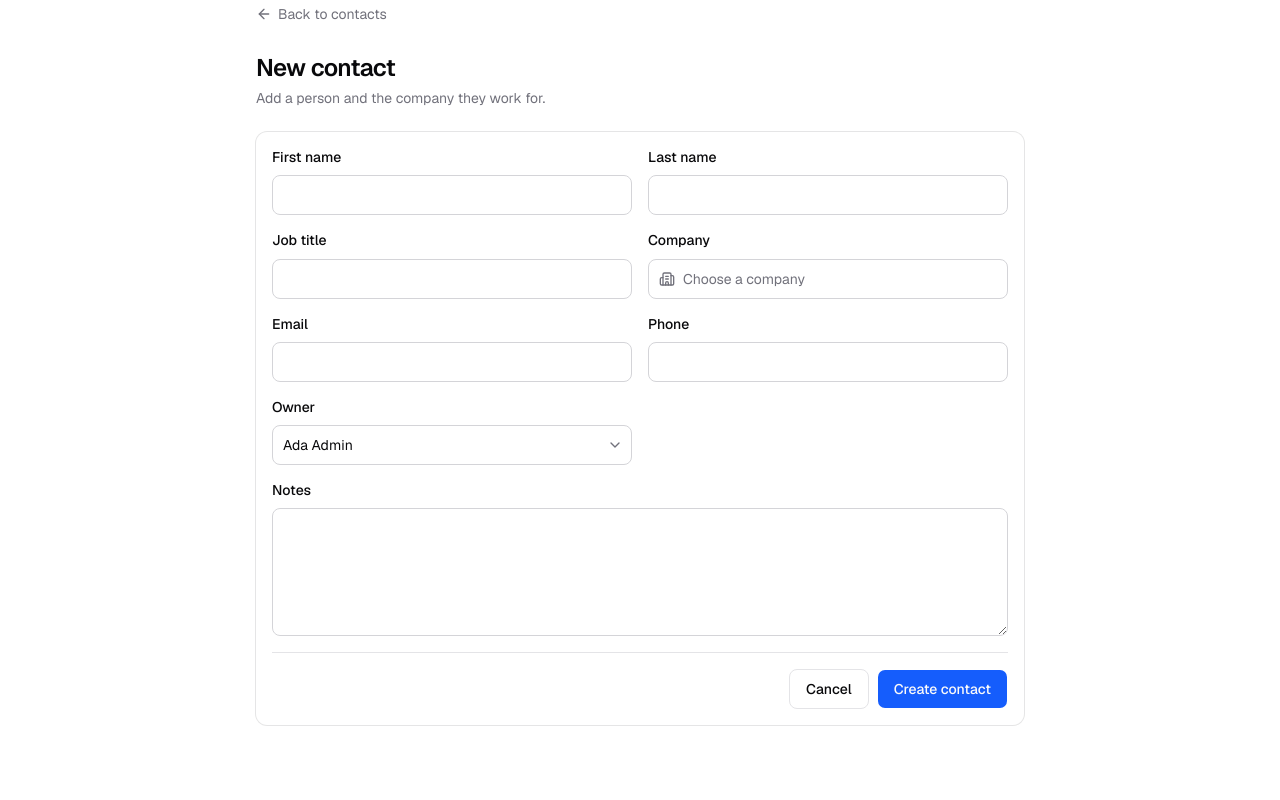
Test case: NewContactPage › puts the server's validation details on the matching fields, the company included
Type "Marcus" into the field labelled "First name".
click(452, 195); type("Marcus")  # box [272,175,632,215]
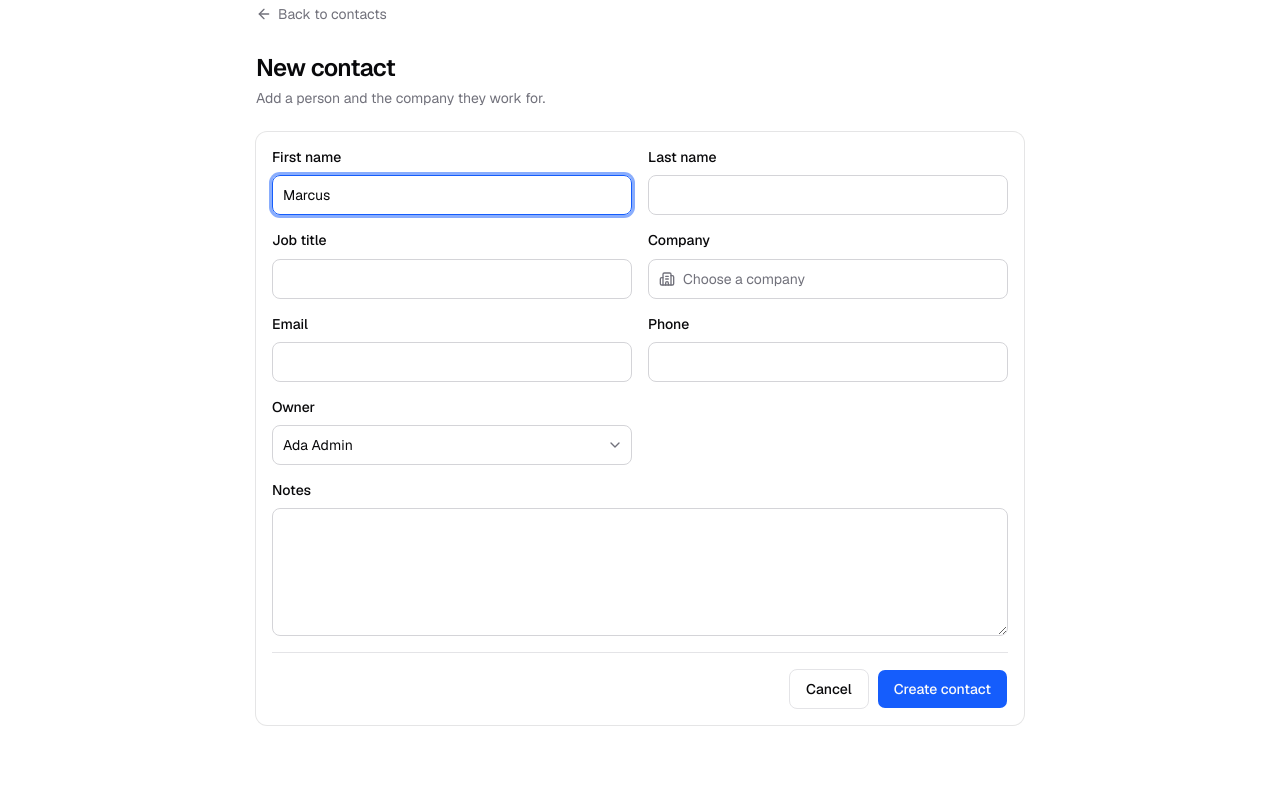
Type "Chen" into the field labelled "Last name".
click(828, 195); type("Chen")  # box [648,175,1008,215]
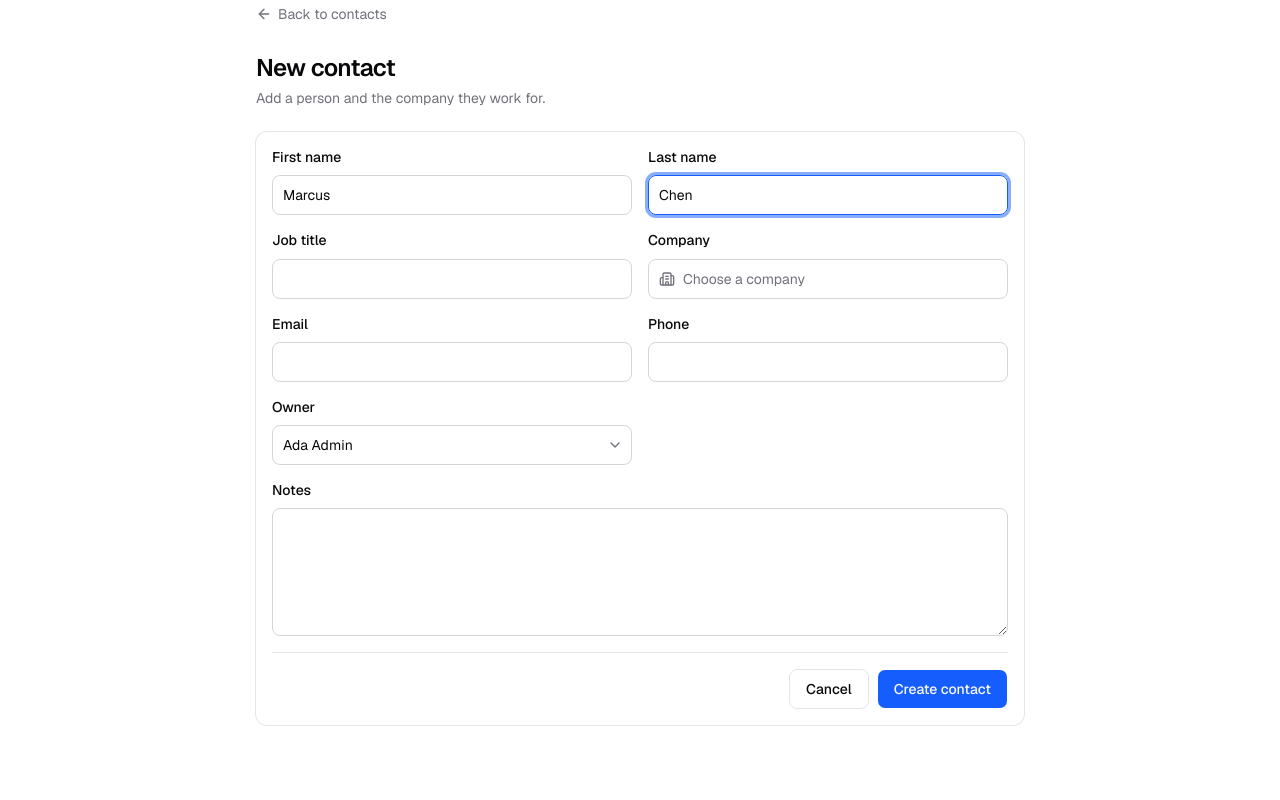
Click the button with aria-label "Company: none".
click(744, 278)  # box [648,258,1008,298]
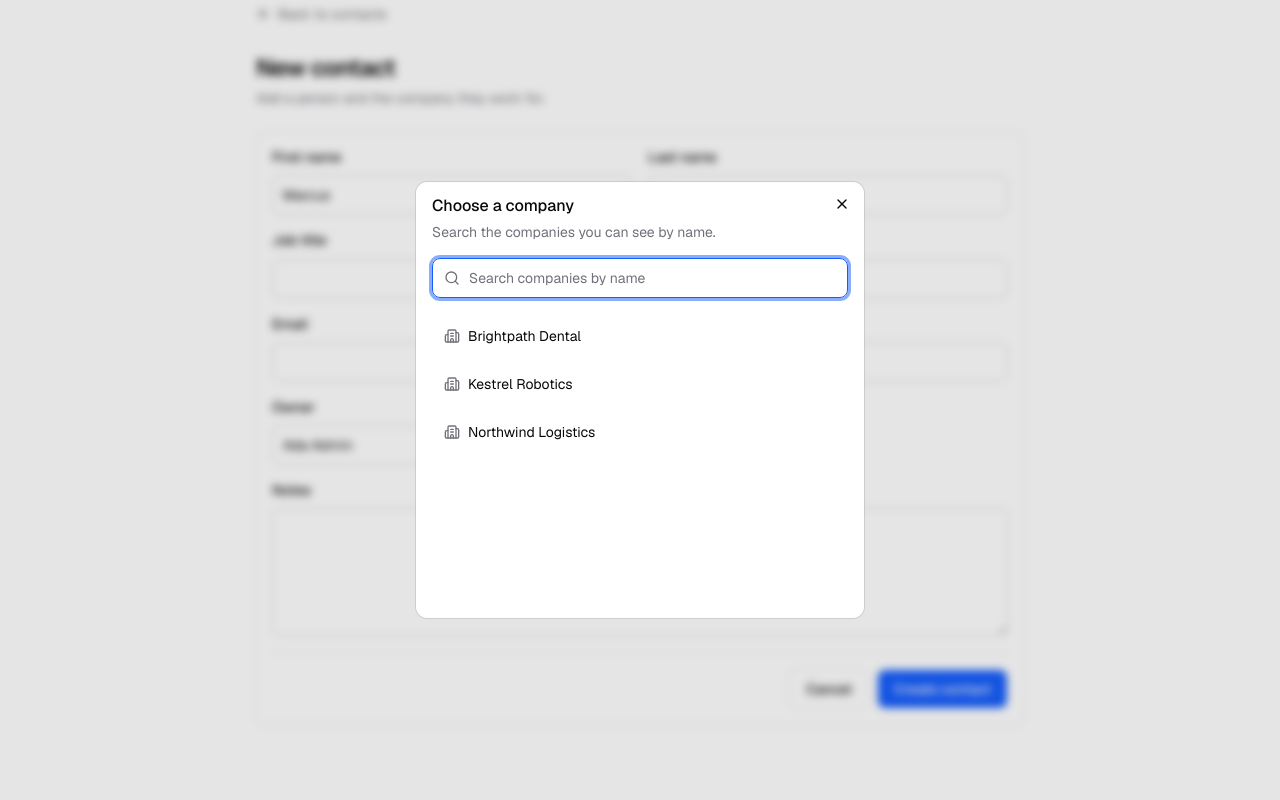
Click the button "Northwind Logistics".
click(532, 432)  # box [432,410,848,454]
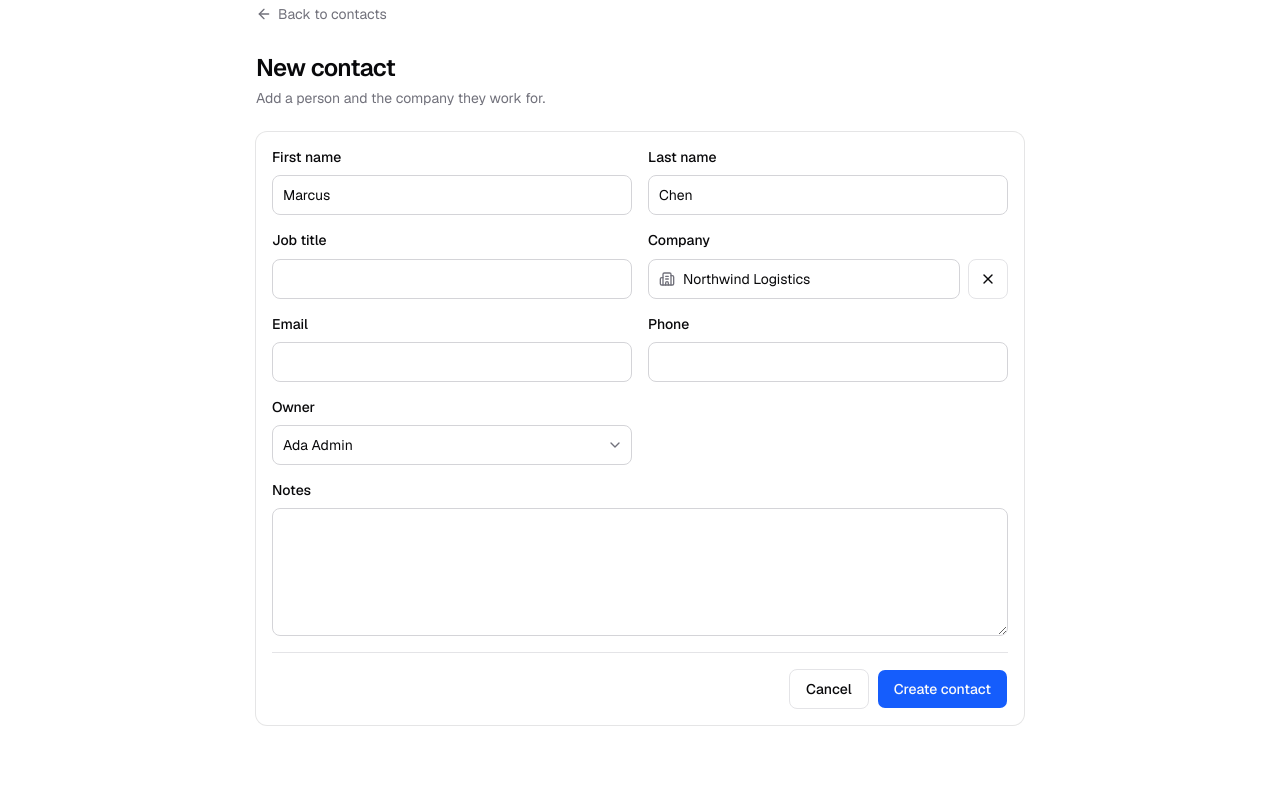
Check: the dialog is gone
Click the button "Create contact".
click(942, 689)  # box [877,669,1008,709]
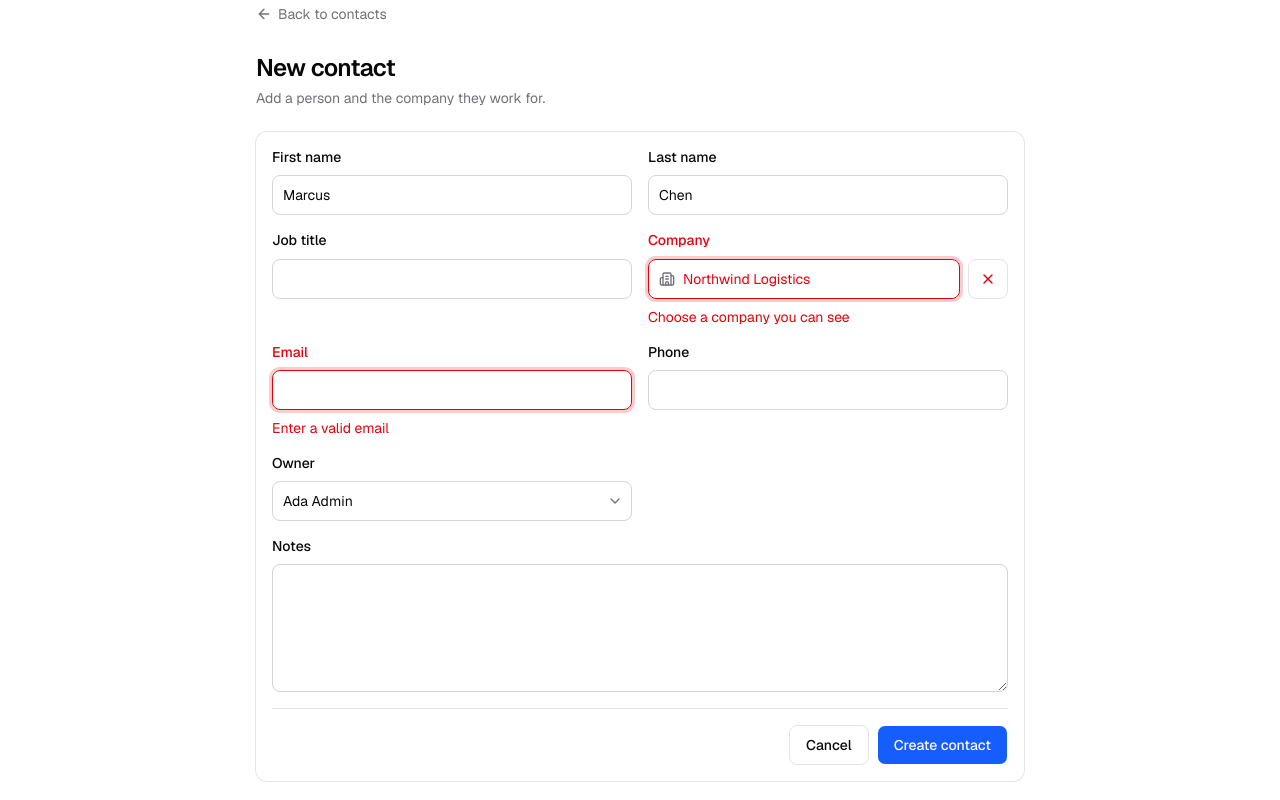
Check: the text "Enter a valid email" is shown, box [272,419,389,437]
Check: the text "Choose a company you can see" is shown, box [648,308,850,326]
